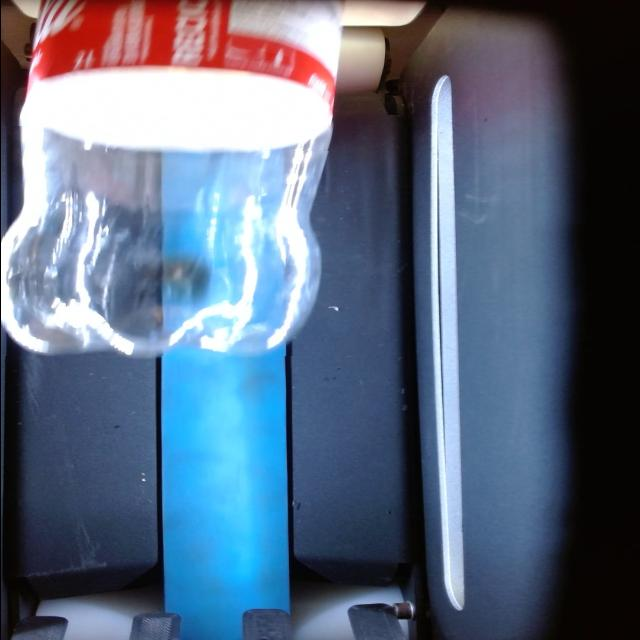bottom: (3, 126, 329, 356)
label: (26, 0, 340, 151)
